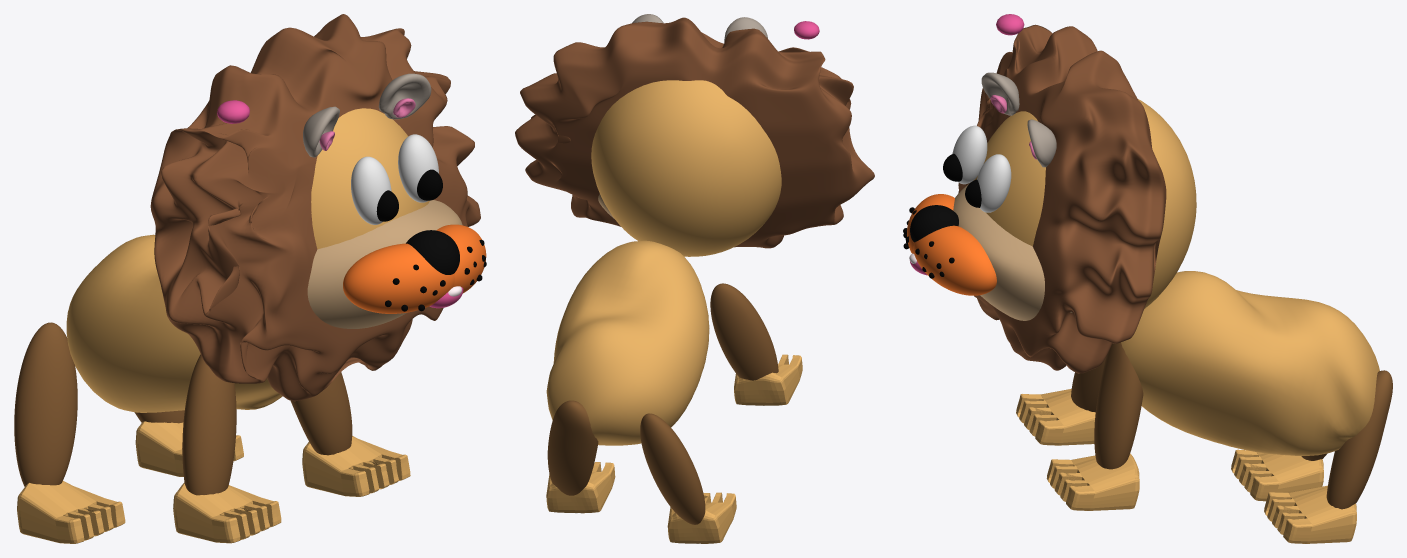
3 renders of one model, left to right at view 1: azimuth 30°, elevation 25°; view 2: azimuth 150°, elevation 25°; view 3: azimuth 270°, elevation 25°, orthographic. The views are drawn at different scales.
Parts seen in each view (by area): view 1: Roundcube.002, Roundcube.006; view 2: Roundcube.002; view 3: Roundcube.002.
Part boxes in pixels (bbox=[...]): Roundcube.002: bbox=[14, 14, 486, 543]; Roundcube.006: bbox=[217, 100, 249, 123]; Roundcube.002: bbox=[515, 14, 874, 543]; Roundcube.002: bbox=[903, 24, 1392, 543].
Bounding box in the file's own units: 6.55 × 9.18 × 8.21.
